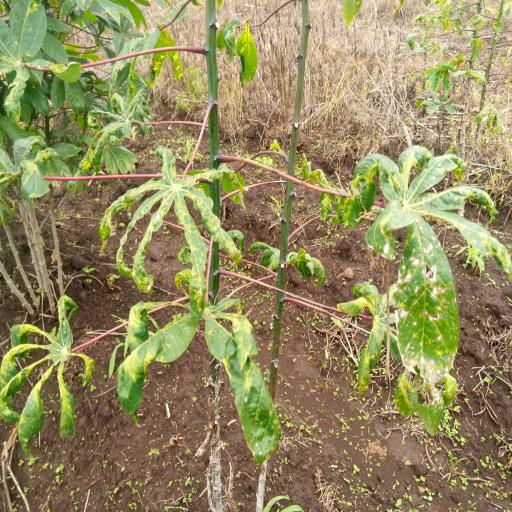Cassava_Mosaic: (349, 144, 509, 398), (93, 153, 244, 297), (0, 289, 90, 454)
